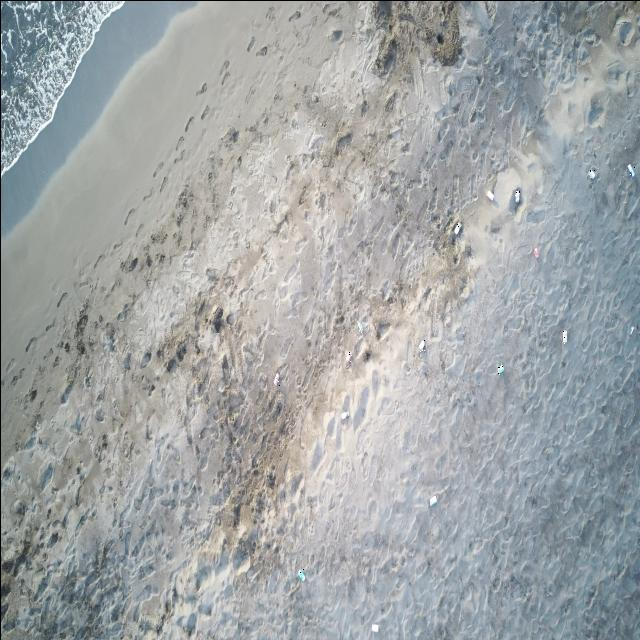Garbage: (356, 320, 366, 333), (513, 187, 520, 204), (417, 339, 426, 352), (344, 351, 351, 367), (627, 163, 635, 176), (272, 372, 279, 386), (587, 168, 595, 179), (428, 495, 436, 506), (296, 568, 303, 580), (532, 247, 539, 258), (340, 411, 348, 420), (562, 329, 567, 343), (455, 221, 460, 235), (487, 190, 493, 200), (496, 364, 503, 372), (628, 326, 633, 335), (372, 623, 377, 632)
